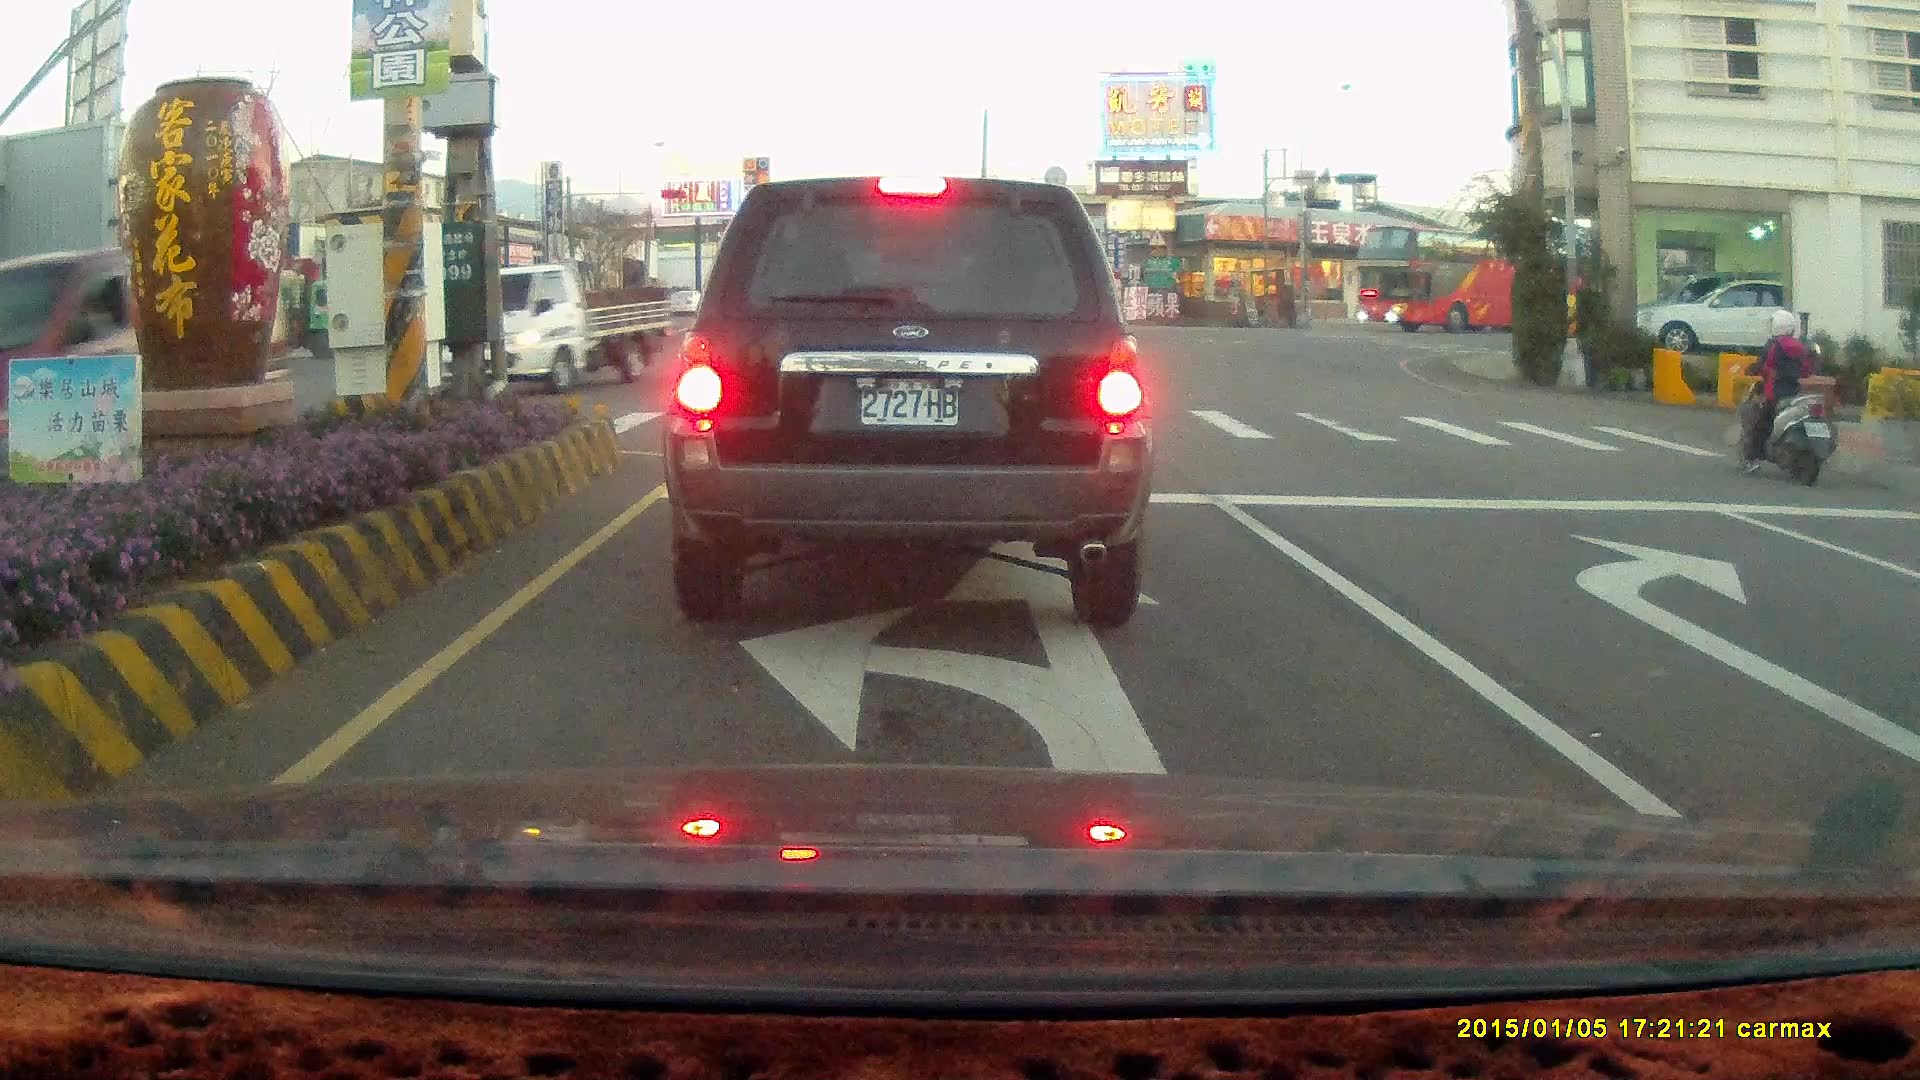rider: (1727, 308, 1833, 484)
vehicle: (660, 174, 1153, 630), (0, 242, 293, 506), (485, 259, 686, 389), (1350, 224, 1588, 334), (1621, 274, 1829, 353), (1642, 275, 1784, 356), (1896, 493, 1920, 836), (1883, 528, 1920, 690)
